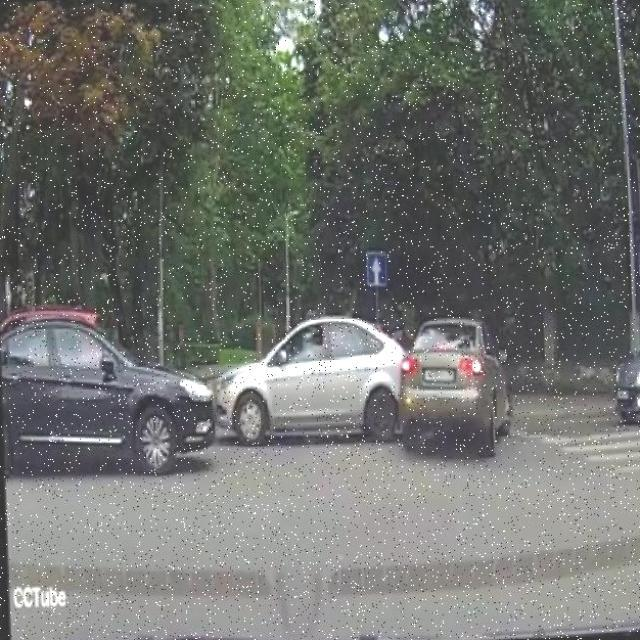accident: (209, 306, 515, 469)
